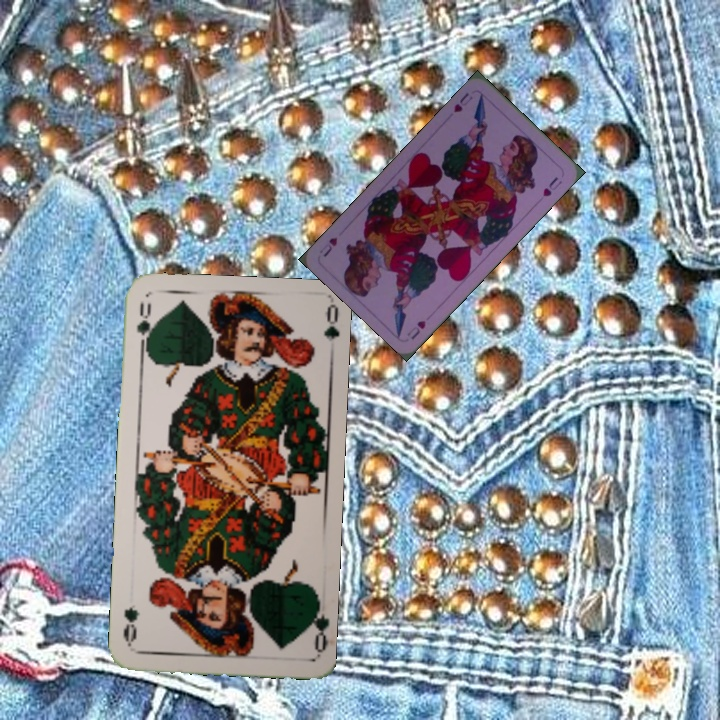GO: (302, 594, 329, 654), (133, 298, 156, 356)
HU: (450, 89, 476, 116), (403, 316, 428, 342)
